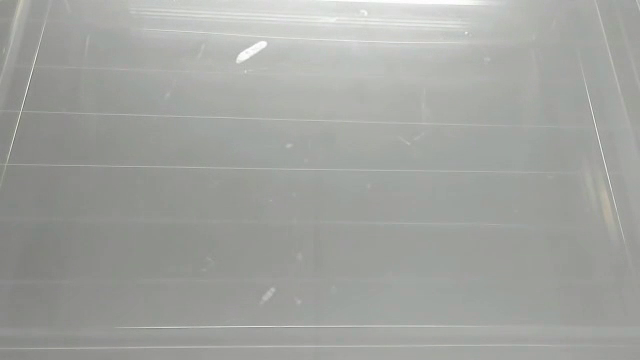alpha: (232, 36, 271, 70), (255, 283, 279, 309)
